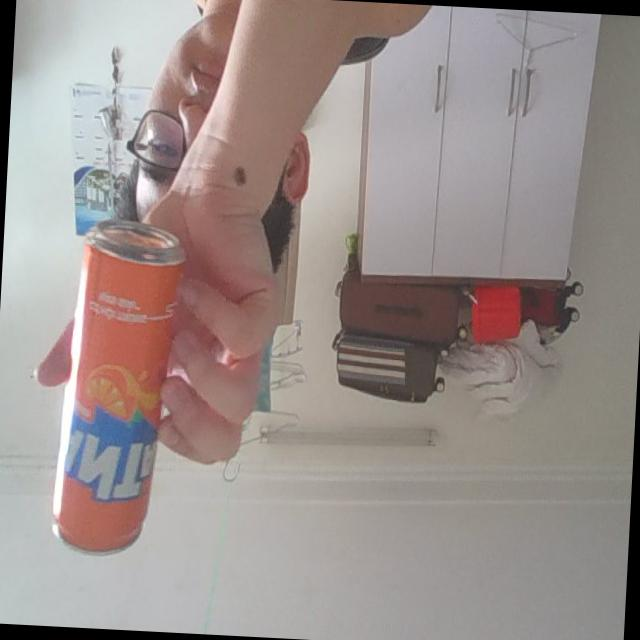Fanta: (45, 222, 188, 566)
